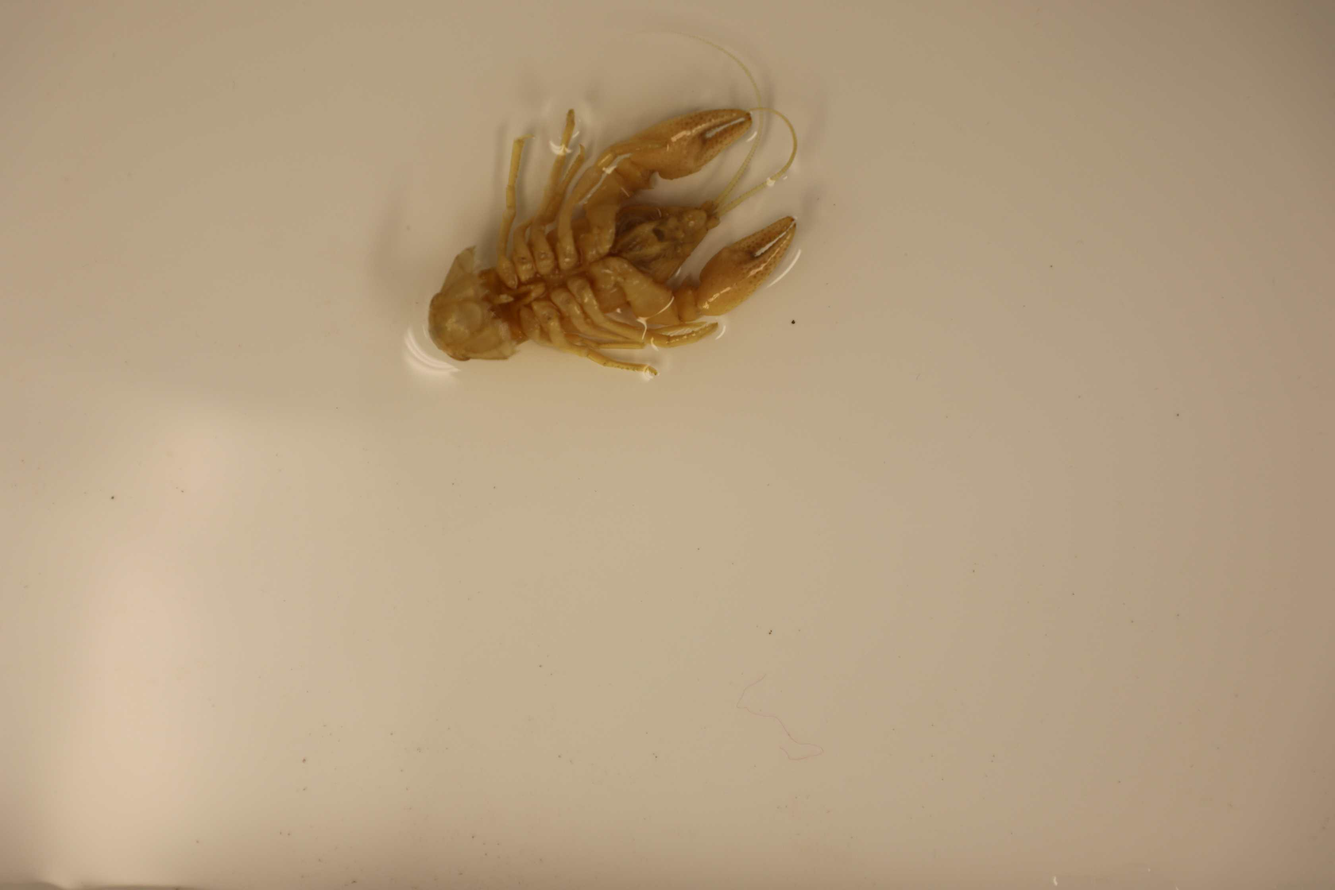Other: (424, 30, 826, 396)
